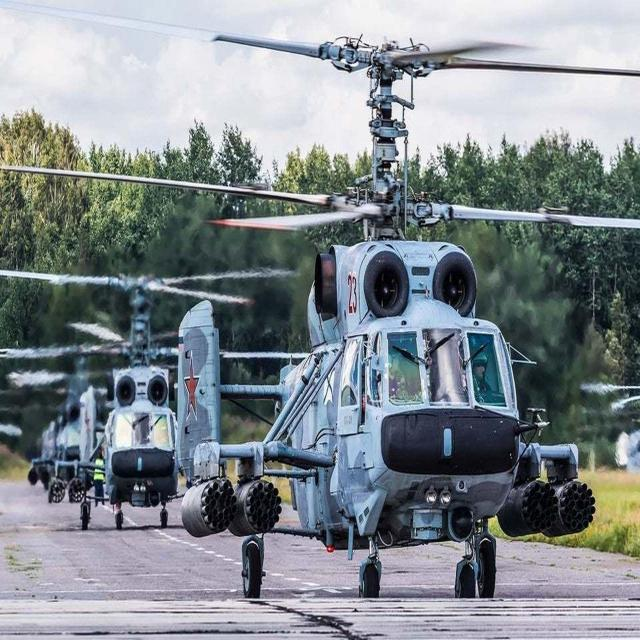MIL_HELO: (42, 1, 640, 611), (8, 235, 260, 541)
